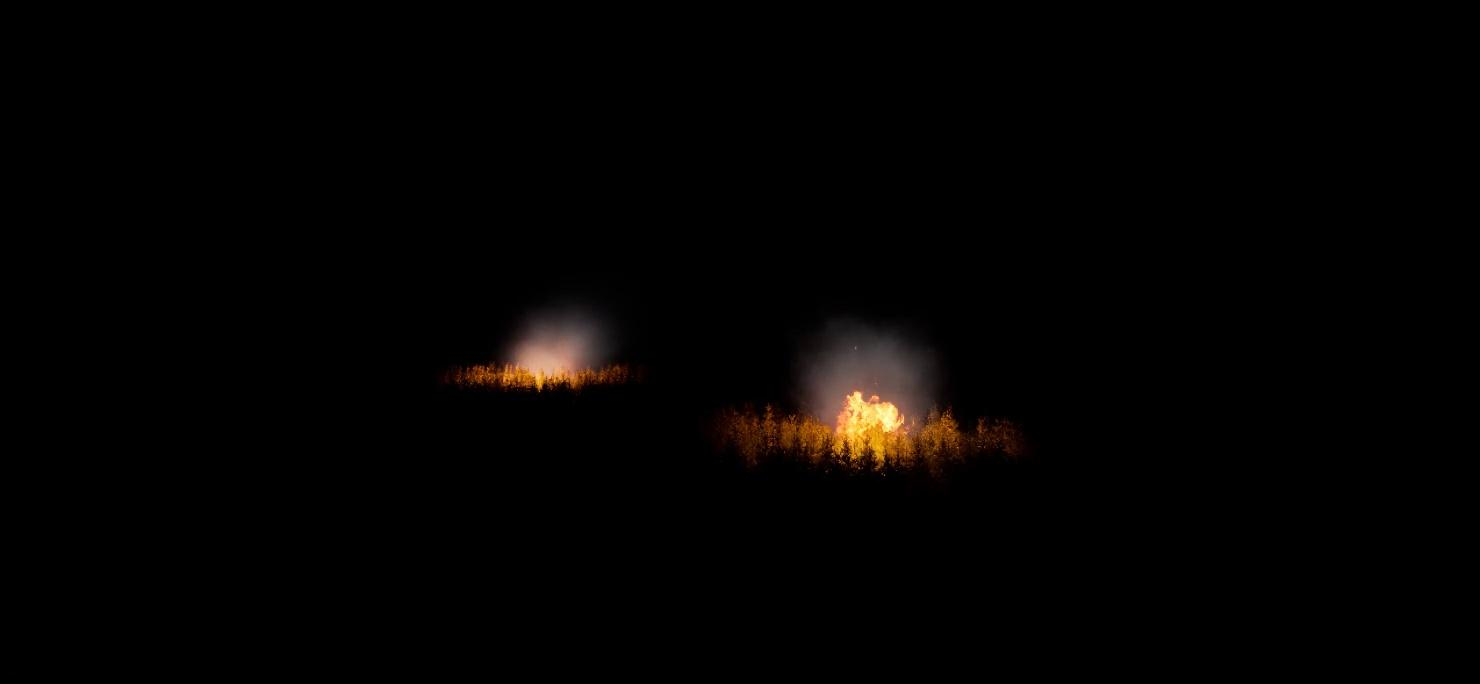fire: (834, 389, 913, 431)
smoke: (802, 322, 939, 422), (505, 312, 616, 384)
